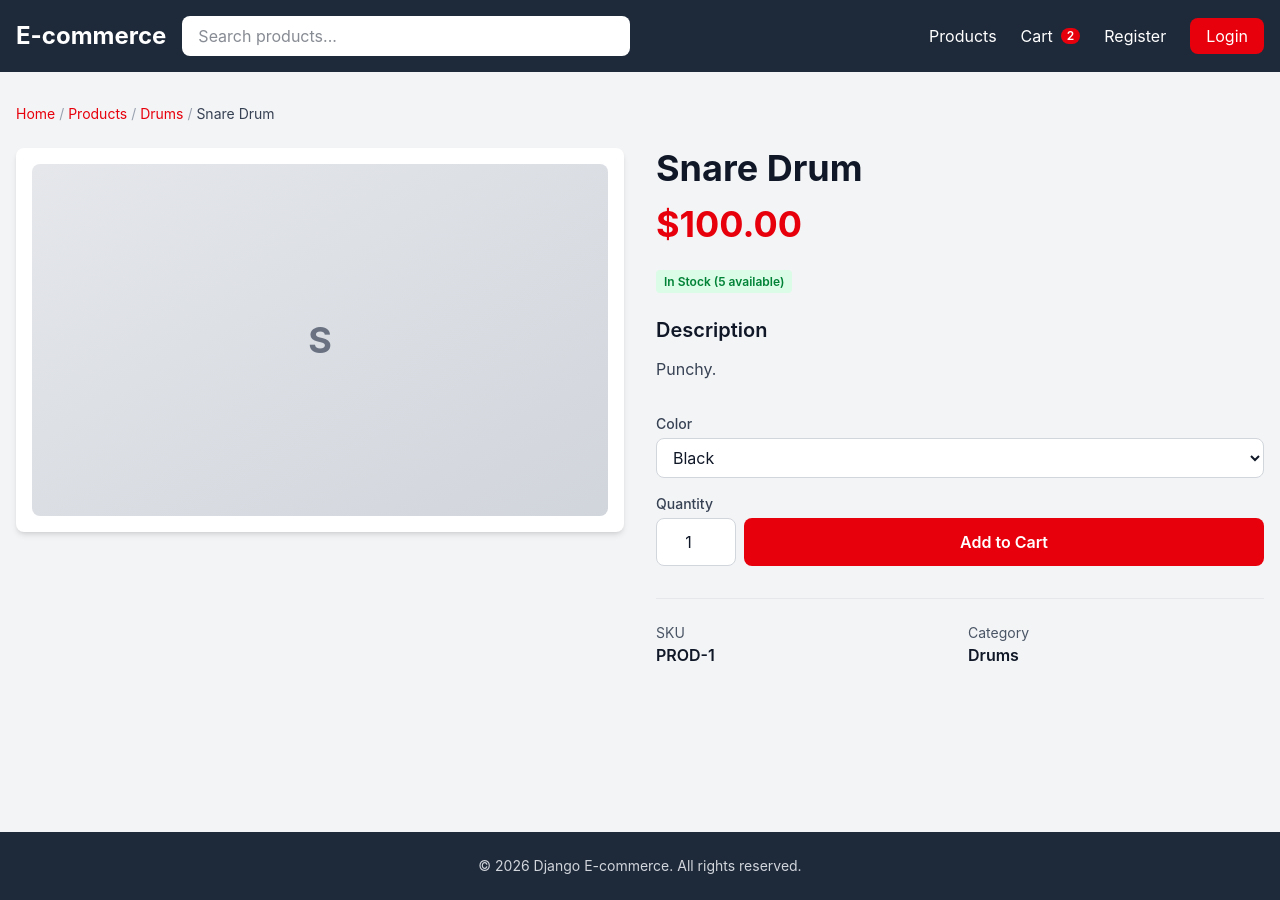
product detail › shows validation errors from the API
What coordinates should you click on to do the following:
click the button "Add to Cart"
I would click on:
 (1004, 542)
Its box is x1=744 y1=518 x2=1264 y2=566.
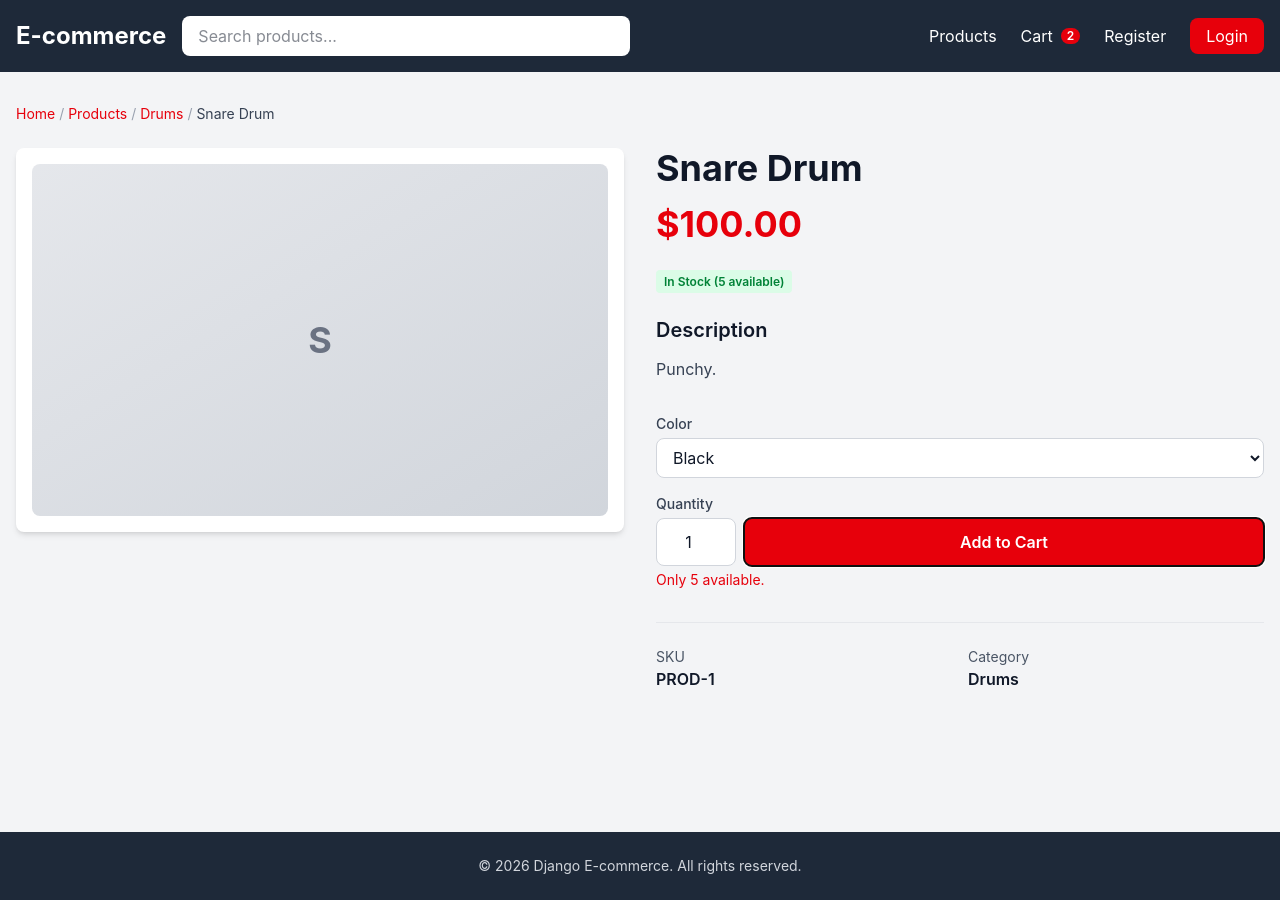
Expected: the text "Only 5 available." is shown, x1=656 y1=571 x2=765 y2=588
